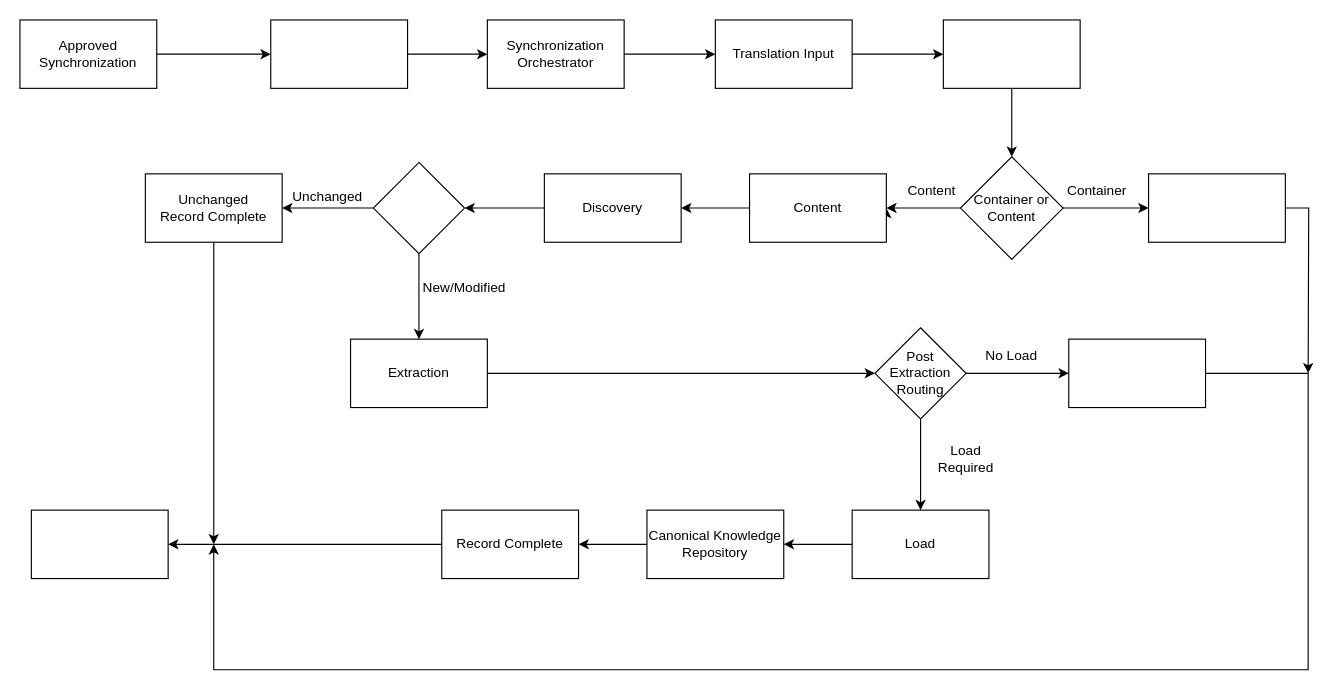
The diagram is 1338 pixels wide and 699 high, and some of its shapes have lost their labels. Each missing label, with the box of its shape:
Connector: (270, 19, 408, 88)
Container Record Complete: (1147, 173, 1285, 242)
Data Status: (372, 161, 465, 254)
No Load Record Complete: (1068, 338, 1206, 408)
Synchronization Orchestrator Run Completion: (30, 509, 168, 579)
Translator: (942, 19, 1080, 88)
